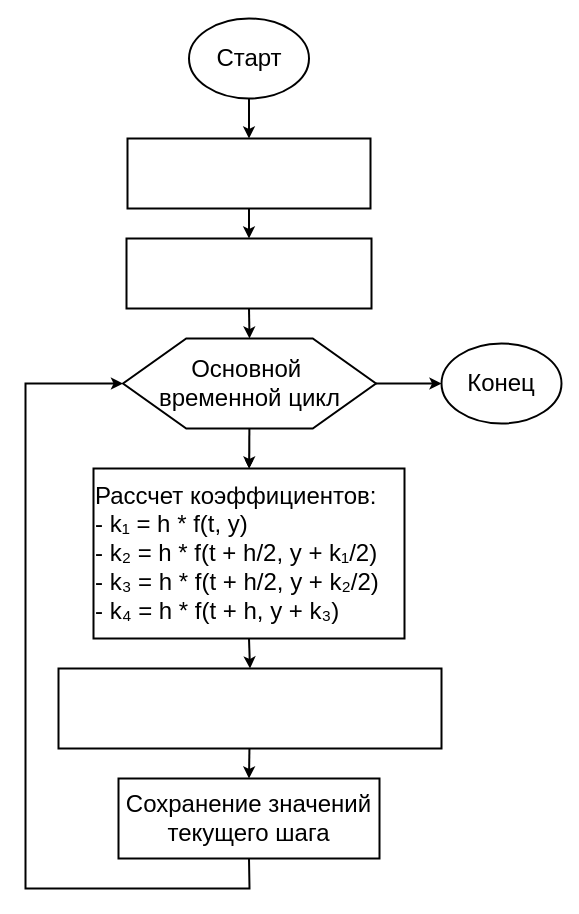
Some shapes in this 579 by 914 pixel diagram are drawn without their labels. The shapes that lost their labels are listed below. From the top down, each one's centre as x and y in pixels, then its label:
At (x=248, y=173): "Ввод начальных параметров модели".
At (x=248, y=273): "Инициализация массивов t res и y res".
At (x=249, y=708): "Рассчет нового значения y: y new = y + (k₁ + 2k₂ + 2k₃ + k₄) / 6".
